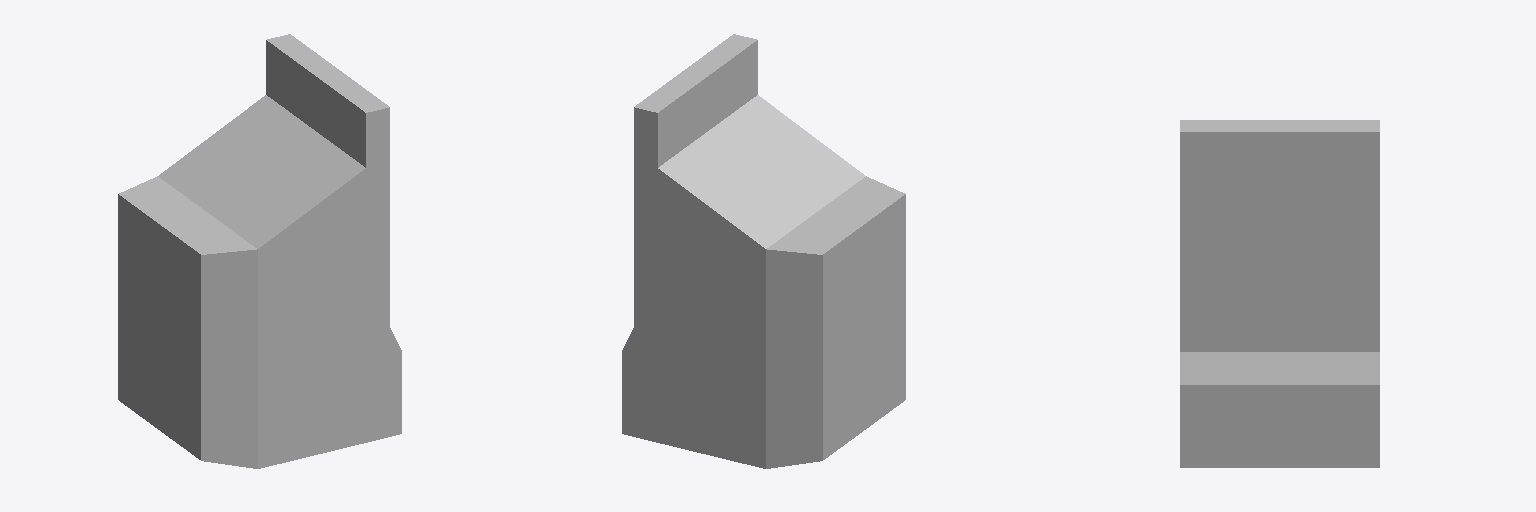
Rendered from ControlPedestal.obj.
3 renders of one model, left to right at view 1: azimuth 30°, elevation 25°; view 2: azimuth 150°, elevation 25°; view 3: azimuth 270°, elevation 25°, orthographic.
Parts seen in each view (by area): view 1: entity0_brush0; view 2: entity0_brush0; view 3: entity0_brush0.
Part boxes in pixels (x1,y1,x2,y2): entity0_brush0: (118,34,401,468); entity0_brush0: (622,34,905,468); entity0_brush0: (1180,120,1379,467).
Size of the model in its own units: 32 by 52.4 by 28.82.